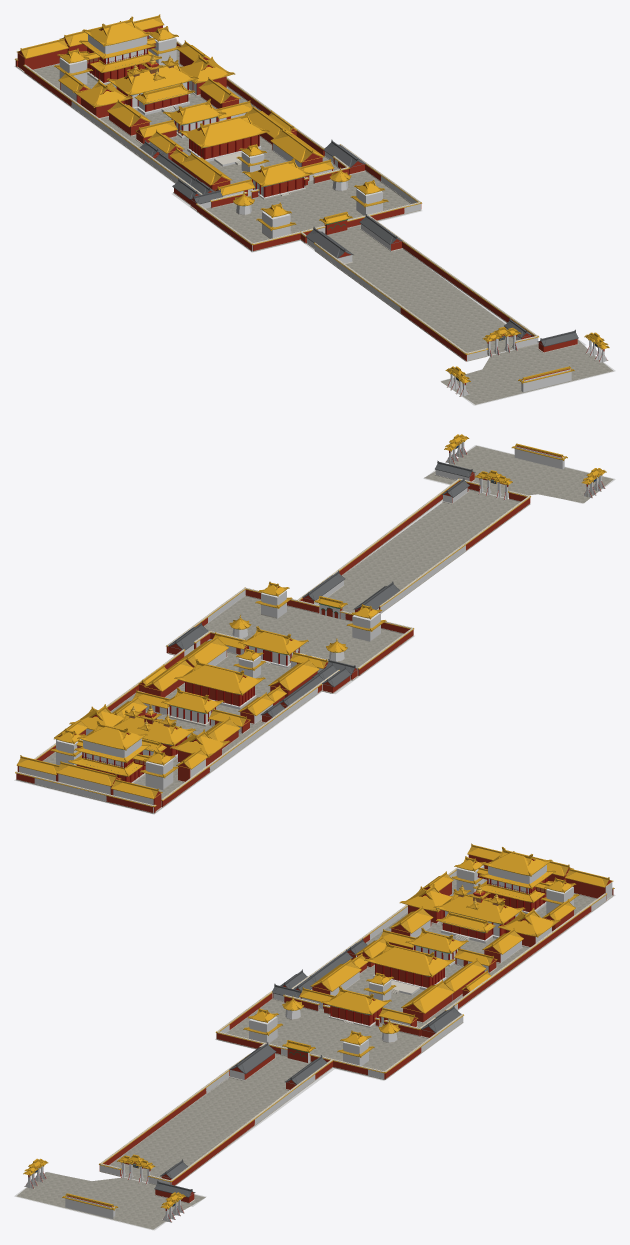
File: yonghegong.glb
The picture shows the model from 3 angles, top to bottom: view 1: azimuth 30°, elevation 25°; view 2: azimuth 150°, elevation 25°; view 3: azimuth 330°, elevation 25°; orthographic projection.
Visible parts, largest first — view 1: Massing, Temple, COL_h61, COL_b27, COL_h43, COL_b63, COL_b8; view 2: Massing, Temple, COL_h61, COL_b27, COL_h43, COL_b28, COL_b8, COL_b63, COL_b7; view 3: Massing, Temple, COL_b27, COL_h64, COL_b63, COL_b8.
Part boxes in pixels (x1=…): Massing: x1=17, y1=19, x2=613, y2=404; Temple: x1=15, y1=14, x2=609, y2=396; COL_h61: x1=335, y1=258, x2=466, y2=353; COL_b27: x1=88, y1=34, x2=147, y2=63; COL_h43: x1=32, y1=70, x2=138, y2=154; COL_b63: x1=521, y1=369, x2=571, y2=392; COL_b8: x1=262, y1=211, x2=290, y2=238; Massing: x1=17, y1=436, x2=613, y2=812; Temple: x1=15, y1=434, x2=606, y2=813; COL_h61: x1=401, y1=496, x2=529, y2=597; COL_b27: x1=83, y1=738, x2=141, y2=767; COL_h43: x1=169, y1=717, x2=274, y2=794; COL_b28: x1=145, y1=759, x2=173, y2=789; COL_b8: x1=352, y1=612, x2=380, y2=641; COL_b63: x1=514, y1=446, x2=564, y2=469; COL_b7: x1=261, y1=590, x2=286, y2=618; Massing: x1=16, y1=848, x2=612, y2=1229; Temple: x1=23, y1=843, x2=614, y2=1222; COL_b27: x1=488, y1=865, x2=546, y2=893; COL_h64: x1=170, y1=1084, x2=298, y2=1184; COL_b63: x1=65, y1=1196, x2=115, y2=1218; COL_b8: x1=249, y1=1016, x2=277, y2=1043.
Size of the model in its own units: 94.16 by 26.8 by 441.
Materials: 14 (5 with a texture image).
